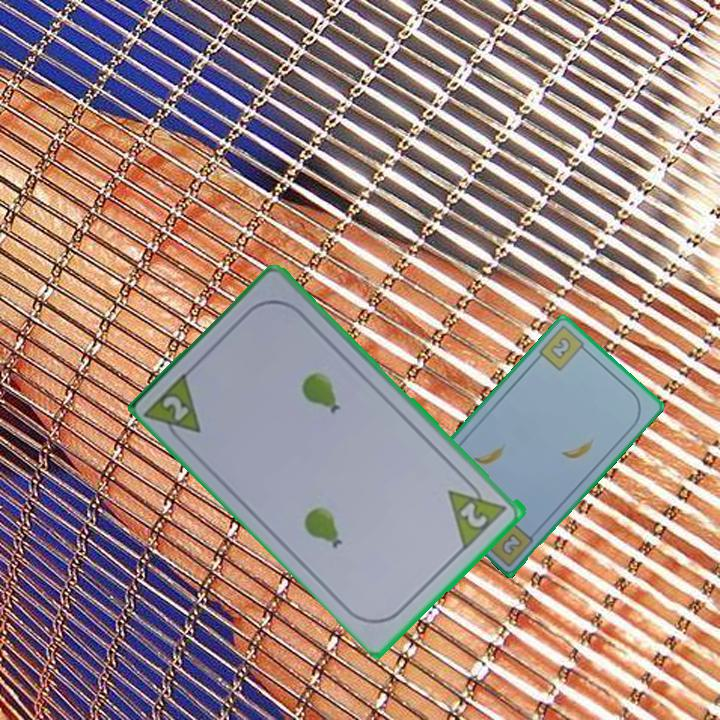2b: (535, 322, 592, 374), (497, 529, 525, 558)
2p: (457, 498, 491, 531), (159, 392, 193, 424)
